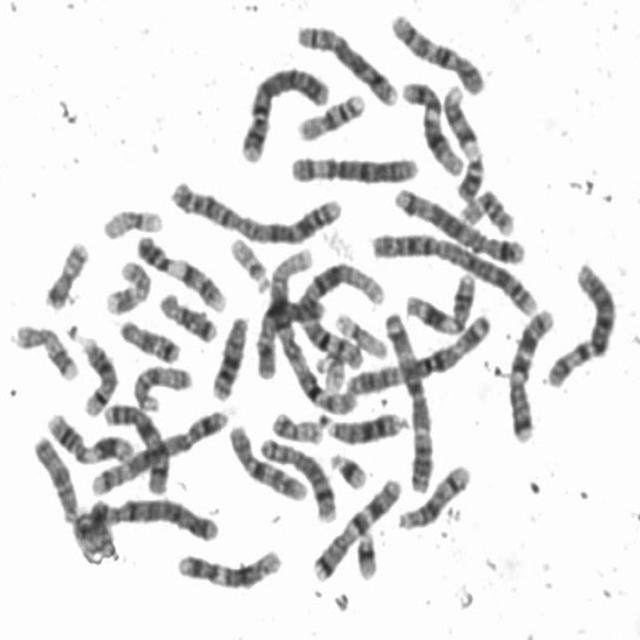A1: (262, 242, 364, 421), (286, 252, 388, 373)
A2: (364, 222, 540, 317), (162, 169, 344, 246)
A3: (339, 306, 495, 396), (377, 302, 436, 495)
B4: (234, 56, 331, 164), (78, 488, 221, 544)
B5: (85, 402, 231, 498), (387, 179, 528, 266)
C10: (384, 3, 488, 97), (223, 415, 310, 504)
C11: (40, 404, 134, 468), (399, 265, 478, 337)
C12: (396, 72, 466, 177), (170, 541, 285, 591)
C6: (540, 253, 619, 389), (283, 144, 421, 187)
C7: (306, 469, 404, 583), (502, 297, 558, 444)
C8: (290, 15, 400, 109), (252, 429, 339, 525)
C9: (129, 226, 230, 314), (436, 76, 488, 204)
D13: (205, 307, 252, 402), (312, 402, 409, 446)
D14: (392, 457, 473, 532), (64, 322, 119, 418)
D15: (27, 428, 80, 524), (126, 356, 194, 412)
E16: (291, 84, 368, 143), (453, 180, 516, 237)
E17: (8, 315, 81, 382), (99, 252, 153, 317)
E18: (151, 283, 221, 344), (114, 310, 182, 365)
F19: (330, 303, 390, 360), (96, 200, 165, 242)
F20: (38, 232, 91, 311), (266, 404, 326, 446)
G21: (324, 444, 369, 491), (350, 522, 380, 582)
G22: (223, 227, 273, 293), (308, 345, 348, 394)
X: (96, 393, 170, 498), (249, 289, 327, 381)
